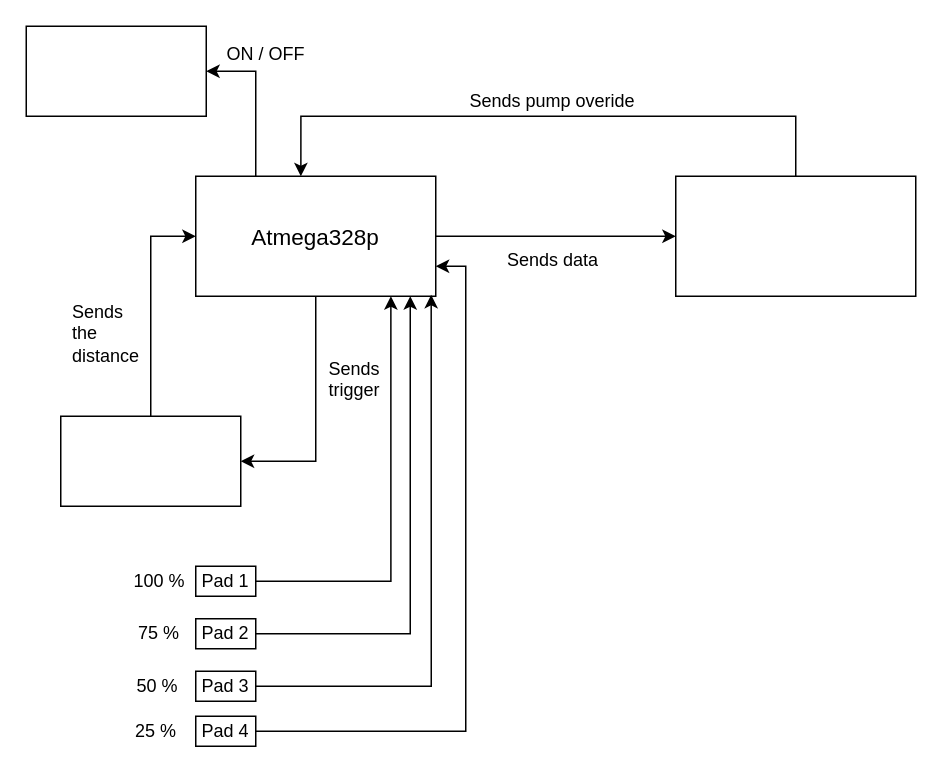
This 942x773 diagram has some shape labels left out. The shapes that lost their labels are listed below. From the top down, each one's centre as x and y in pixels, then its label:
the point at 115,70: PUMP
the point at 795,235: Process Module
the point at 150,460: Ultra-sonic sensor
